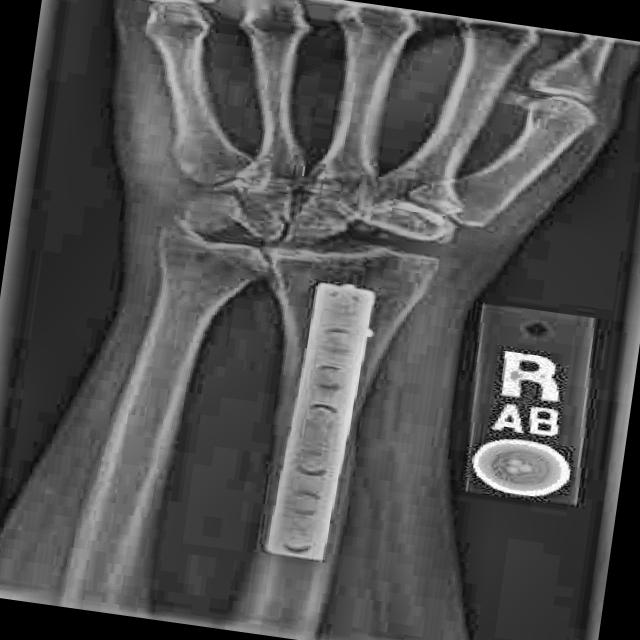fingers positive: (143, 203, 238, 255), (333, 213, 418, 252)
